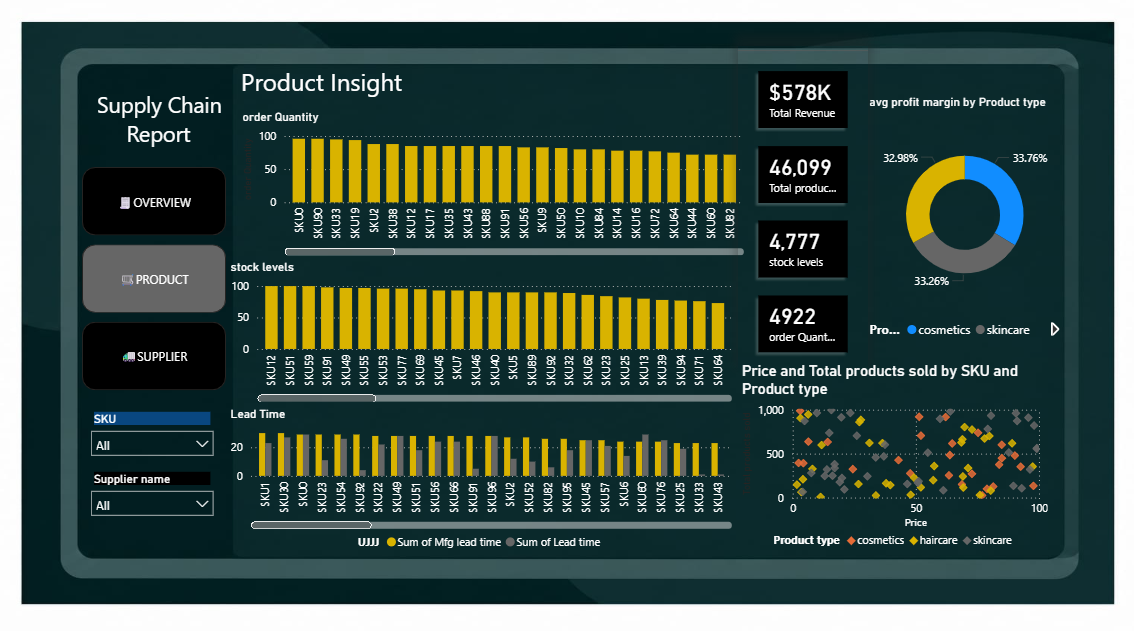

This screenshot's page, from the dashboard's own definition file:
{"tool":"powerbi","page":{"name":"🛒PRODUCT","canvas":[1280,720],"ordinal":1},"visuals":[{"type":"columnChart","title":"order Quantity ","fields":{"Category":["supply_chain_data.SKU"],"Y":["_measures.order Quantity"]},"box":[274,130.4,566.9,166.3],"z":0},{"type":"columnChart","title":"stock levels","fields":{"Category":["supply_chain_data.SKU"],"Y":["_measures.stock levels"]},"box":[260.8,296.7,566.9,162.5],"z":1000},{"type":"clusteredColumnChart","title":"Lead Time ","fields":{"Category":["supply_chain_data.SKU"],"Y":["Sum(supply_chain_data.Mfg lead time)","Sum(supply_chain_data.Lead time)"]},"box":[260.8,459.2,566.9,168.2],"z":2000},{"type":"cardVisual","fields":{"Data":["_measures.Total Revenue","_measures.Total products sold","_measures.stock levels","_measures.order Quantity"]},"box":[827.7,58.6,145.5,364.7],"z":3000},{"type":"donutChart","fields":{"Category":["supply_chain_data.Product type"],"Y":["_measures.avg profit margin"]},"box":[969.5,113.4,221.1,279.7],"z":4000},{"type":"scatterChart","fields":{"Category":["supply_chain_data.SKU"],"X":["Sum(supply_chain_data.Price)"],"Series":["supply_chain_data.Product type"],"Y":["_measures.Total products sold"]},"box":[827.7,410.1,349.6,217.3],"z":5000},{"type":"textbox","box":[272,74.8,555.1,73.2],"z":6000},{"type":"pageNavigator","box":[100.2,194.1,160.7,249.7],"z":7000},{"type":"slicer","fields":{"Values":["supply_chain_data.SKU"]},"box":[100.2,459.7,155.9,74.8],"z":8000},{"type":"slicer","fields":{"Values":["supply_chain_data.Supplier name"]},"box":[100.2,526.5,155.9,74.8],"z":9000},{"type":"textbox","box":[111.3,101.8,160.7,114.5],"z":10000}]}

Visuals, with their boxes in screenshot pixels (x1, y1, x2, y2), scaled from the page's 1280x720 canvas onto the 1134x631 screenshot:
"order Quantity " columnChart: <box>243,114,745,260</box>
"stock levels" columnChart: <box>231,260,733,402</box>
"Lead Time " clusteredColumnChart: <box>231,402,733,550</box>
cardVisual - _measures.Total Revenue x _measures.Total products sold: <box>733,51,862,371</box>
donutChart - supply_chain_data.Product type x _measures.avg profit margin: <box>859,99,1055,345</box>
scatterChart - supply_chain_data.SKU x Sum(supply_chain_data.Price): <box>733,359,1043,550</box>
textbox: <box>241,66,733,130</box>
pageNavigator: <box>89,170,231,389</box>
slicer - supply_chain_data.SKU: <box>89,403,227,468</box>
slicer - supply_chain_data.Supplier name: <box>89,461,227,527</box>
textbox: <box>99,89,241,190</box>
